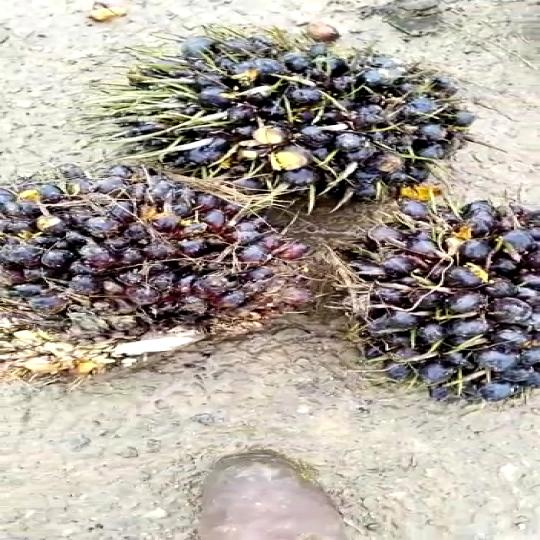mentah: (136, 26, 493, 225), (0, 159, 313, 385), (327, 190, 540, 407)
